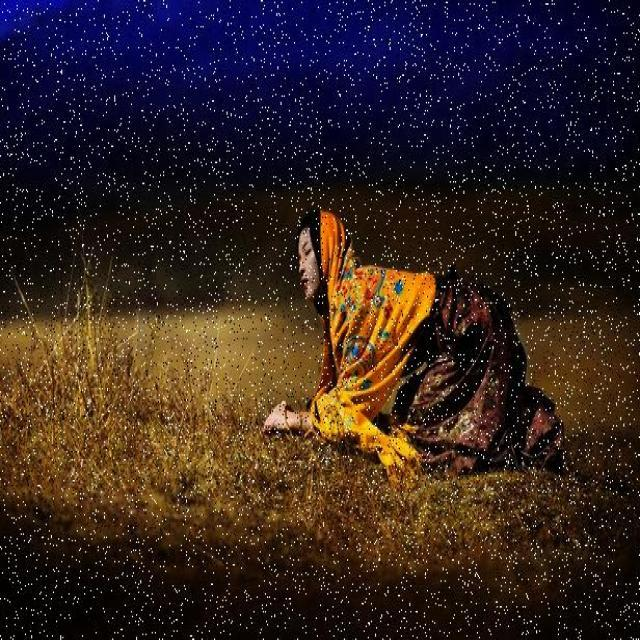fall: (264, 208, 546, 451)
